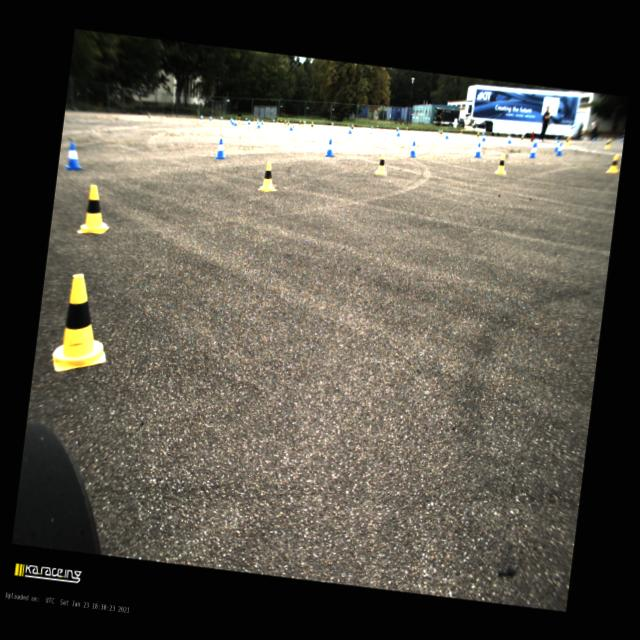blue_cone: (64, 141, 86, 173), (214, 136, 228, 160), (324, 138, 336, 157), (528, 140, 538, 158), (409, 140, 418, 158), (473, 140, 482, 158), (554, 142, 562, 156), (553, 140, 559, 152), (288, 122, 294, 130), (533, 137, 538, 146), (444, 130, 449, 138), (507, 135, 512, 143), (348, 125, 352, 134), (256, 120, 260, 128), (396, 128, 400, 136), (482, 134, 486, 142), (234, 118, 238, 125), (247, 118, 251, 125), (260, 118, 264, 125), (231, 118, 234, 125), (208, 115, 212, 120), (200, 114, 203, 120), (481, 131, 484, 136), (230, 116, 232, 122), (438, 128, 440, 134), (370, 124, 372, 130), (272, 118, 274, 123), (256, 119, 258, 124), (220, 115, 222, 120), (245, 116, 247, 120)
yellow_cone: (50, 270, 116, 378), (76, 184, 114, 238), (256, 160, 280, 192), (604, 152, 622, 174), (494, 151, 509, 175), (374, 152, 389, 176), (603, 137, 611, 149), (564, 136, 569, 146), (349, 123, 354, 132), (309, 121, 313, 130), (475, 131, 479, 140), (286, 120, 290, 128), (520, 134, 524, 142), (439, 129, 442, 137), (395, 126, 398, 134), (279, 118, 282, 125), (405, 125, 408, 132), (298, 120, 301, 126), (346, 122, 349, 128), (284, 118, 286, 126), (235, 116, 238, 121), (252, 117, 255, 122), (302, 120, 304, 127), (255, 118, 258, 122), (376, 124, 378, 130), (238, 116, 240, 121), (276, 118, 278, 123), (460, 130, 462, 134)
